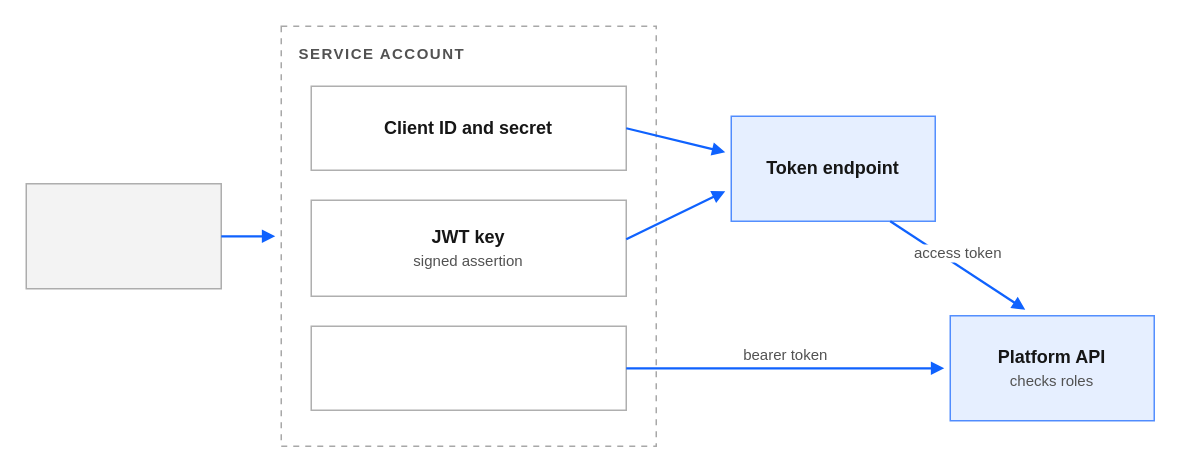
Some shapes in this 1181 by 473 pixel diagram are drawn without their labels. Each missing label, with the centre of its shape:
Personal access token sent as is: (x=468, y=367)
Program: (x=123, y=235)
